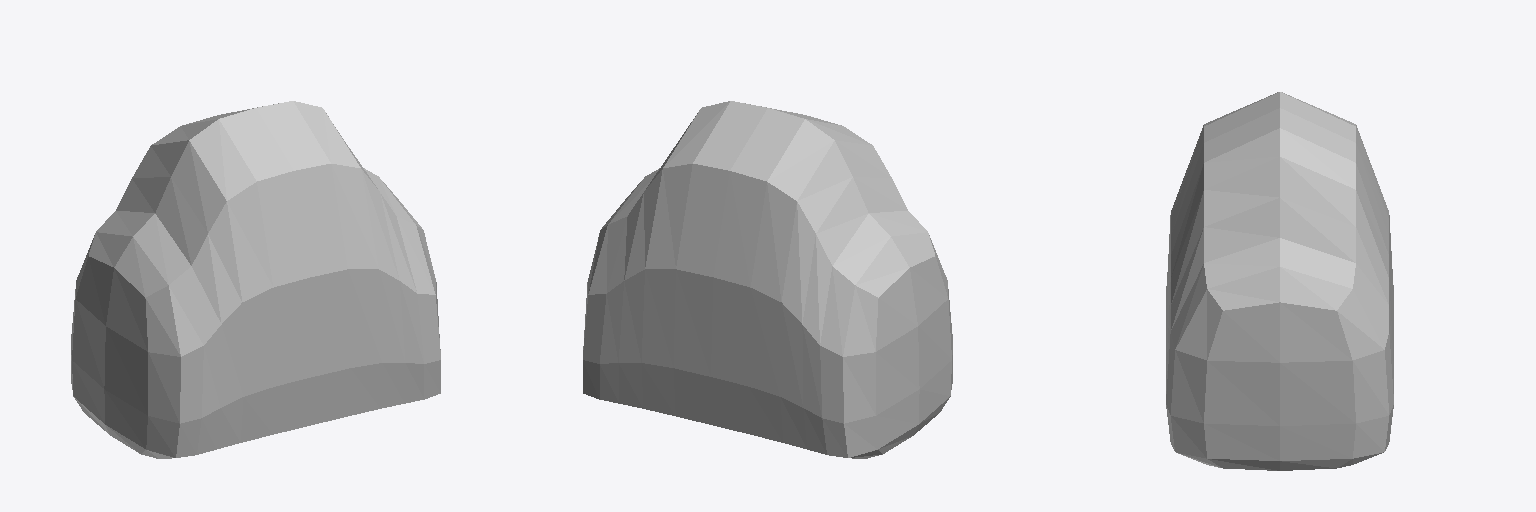
File: oblacek.obj
The picture shows the model from 3 angles: view 1: azimuth 30°, elevation 25°; view 2: azimuth 150°, elevation 25°; view 3: azimuth 270°, elevation 25°; orthographic projection.
Parts seen in each view (by area): view 1: Cube; view 2: Cube; view 3: Cube.
Part boxes in pixels (x1,y1,x2,y2): Cube: (71, 101, 440, 458); Cube: (583, 101, 952, 458); Cube: (1166, 92, 1393, 470).
Size of the model in its own units: 3.07 by 2.87 by 2.